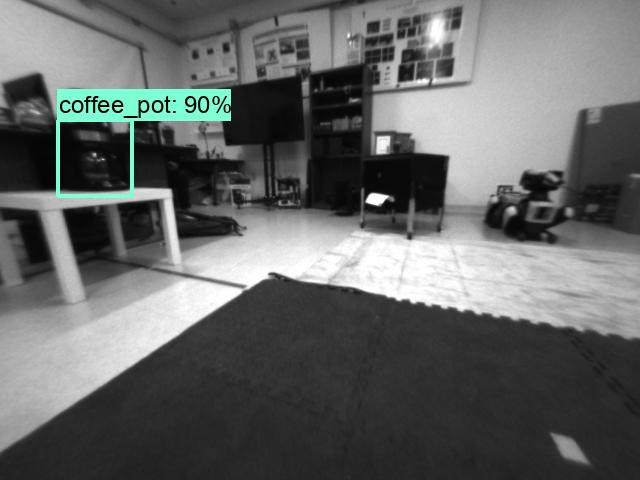coffee_pot: (58, 118, 131, 192)
